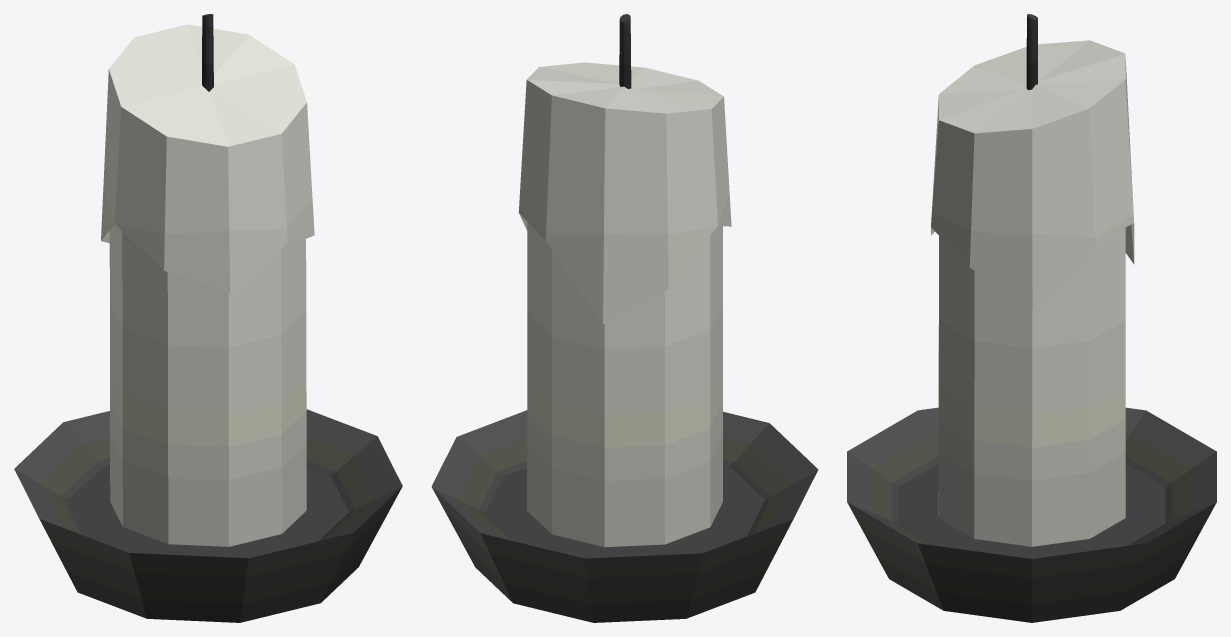
The model's file is SM_MidCandle.fbx.
3 renders of one model, left to right at view 1: azimuth 30°, elevation 25°; view 2: azimuth 150°, elevation 25°; view 3: azimuth 270°, elevation 25°, orthographic.
Visible parts, largest first — view 1: midCandle_GEO; view 2: midCandle_GEO; view 3: midCandle_GEO.
Part boxes in pixels (x1=…): midCandle_GEO: x1=14, y1=14, x2=402, y2=622; midCandle_GEO: x1=431, y1=14, x2=818, y2=622; midCandle_GEO: x1=847, y1=14, x2=1216, y2=622.
Bounding box in the file's own units: 11.44 × 17.69 × 10.88.
